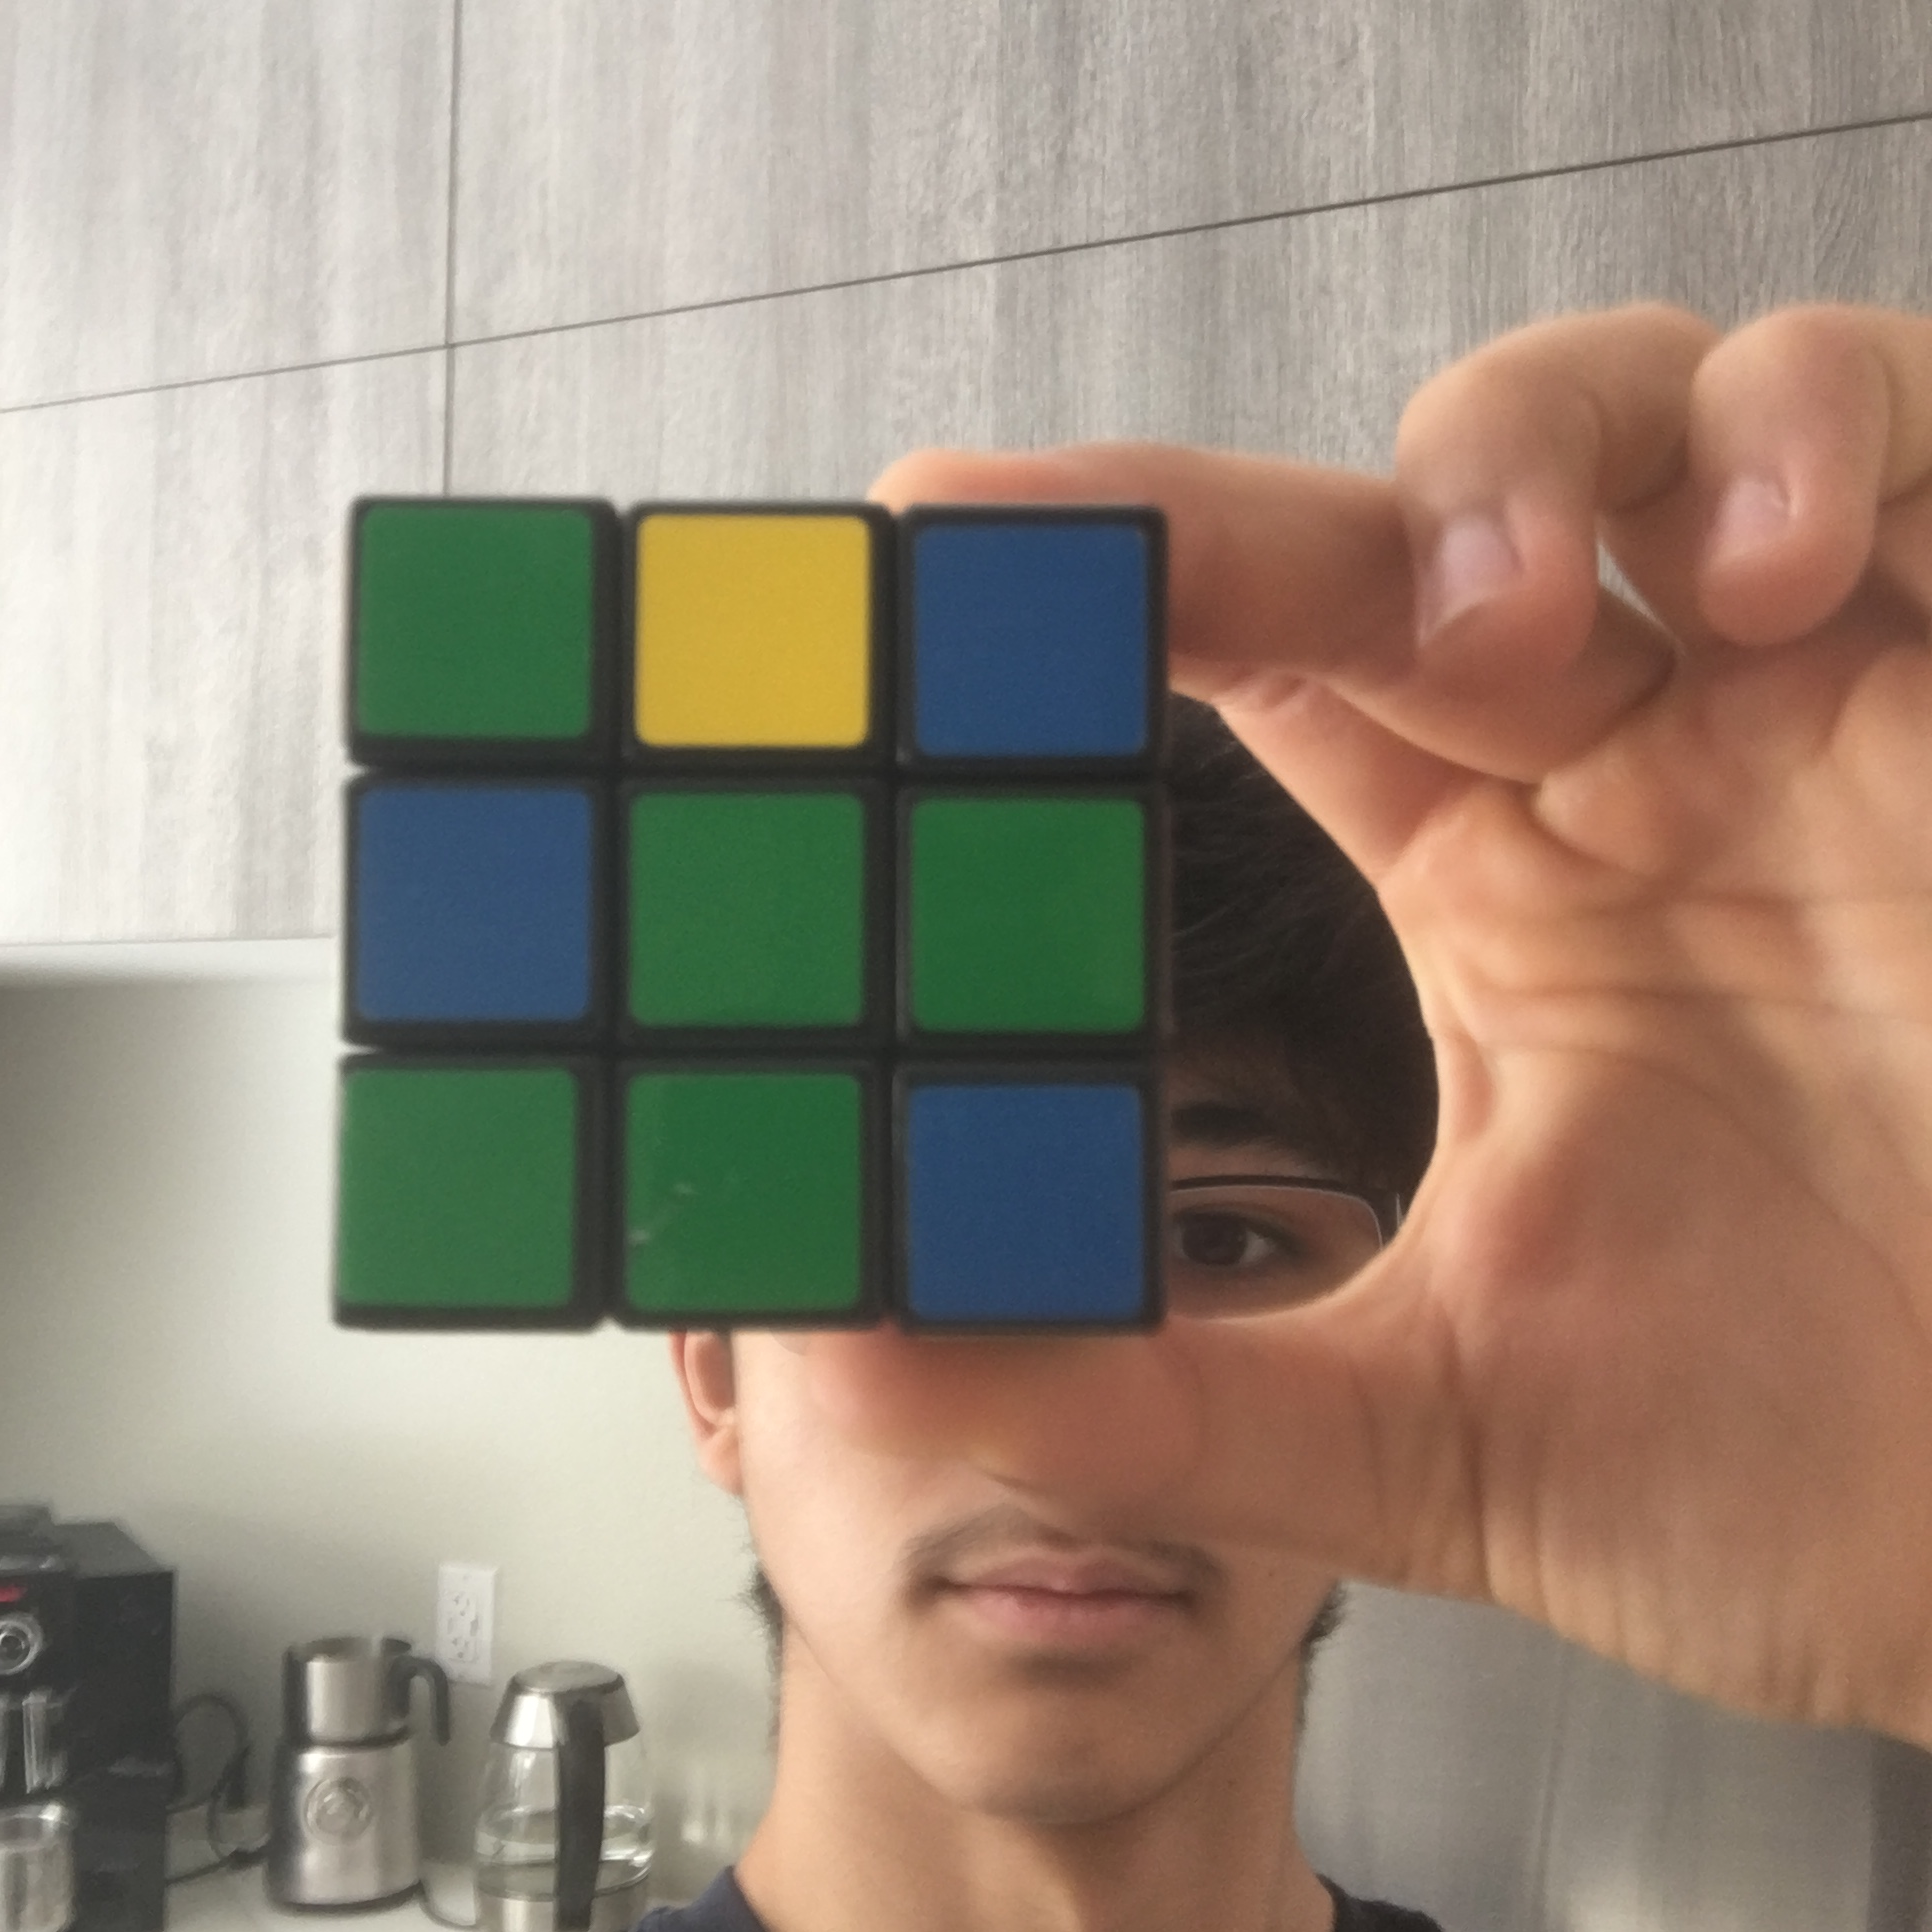face: (335, 499, 1168, 1338)
